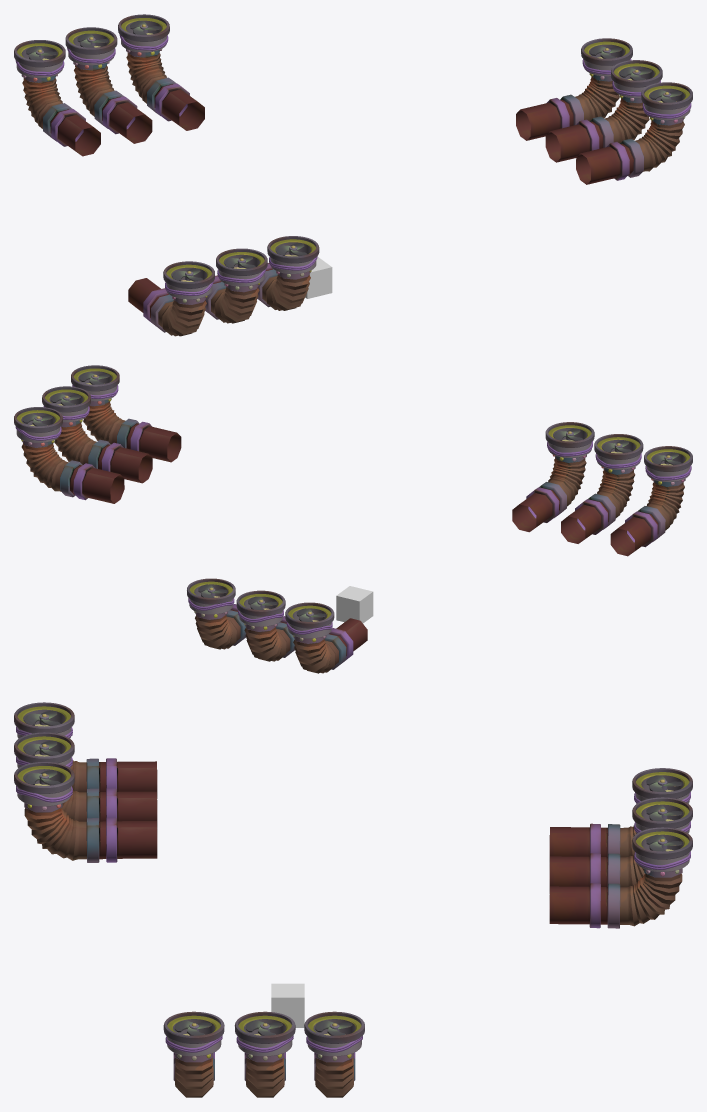
Rendered from battlescence-3-fan2.fbx.
3 renders of one model, top to bottom at view 1: azimuth 30°, elevation 25°; view 2: azimuth 150°, elevation 25°; view 3: azimuth 270°, elevation 25°, orthographic. The views are drawn at different scales.
Visible parts, largest first — view 1: door.012, door.005, door.003, door.006, door.010, door.008, door.018, door.016, door.014, battlescence-3-fan2; view 2: door.008, door.018, door.014, door.016, door.012, door.010, door.003, door.006, door.005, battlescence-3-fan2; view 3: door.006, door.014, door.005, door.016, door.018, door.003, door.012, door.010, door.008, battlescence-3-fan2.
Part boxes in pixels (x1,y1,x2,y2): door.012: (576, 82, 692, 184); door.005: (65, 27, 152, 143); door.003: (14, 40, 100, 156); door.006: (118, 14, 204, 130); door.010: (545, 60, 662, 162); door.008: (516, 38, 632, 140); door.018: (128, 261, 214, 336); door.016: (205, 248, 267, 323); door.014: (257, 236, 319, 310); battlescence-3-fan2: (305, 257, 332, 298); door.008: (14, 407, 124, 503); door.018: (610, 446, 692, 556); door.014: (512, 422, 594, 532); door.016: (561, 434, 643, 543); door.012: (71, 365, 181, 462); door.010: (42, 386, 152, 483); door.003: (285, 602, 367, 673); door.006: (187, 578, 245, 649); door.005: (236, 590, 294, 661); battlescence-3-fan2: (336, 586, 373, 623); door.006: (549, 827, 692, 928); door.014: (14, 762, 157, 862); door.005: (549, 797, 692, 893); door.016: (14, 732, 157, 828); door.018: (14, 702, 157, 798); door.003: (549, 768, 692, 863); door.012: (163, 1011, 224, 1097); door.010: (234, 1011, 295, 1097); door.008: (304, 1011, 364, 1097); battlescence-3-fan2: (271, 983, 304, 1027).
Size of the model in its own units: 2756 by 678 by 2361.
